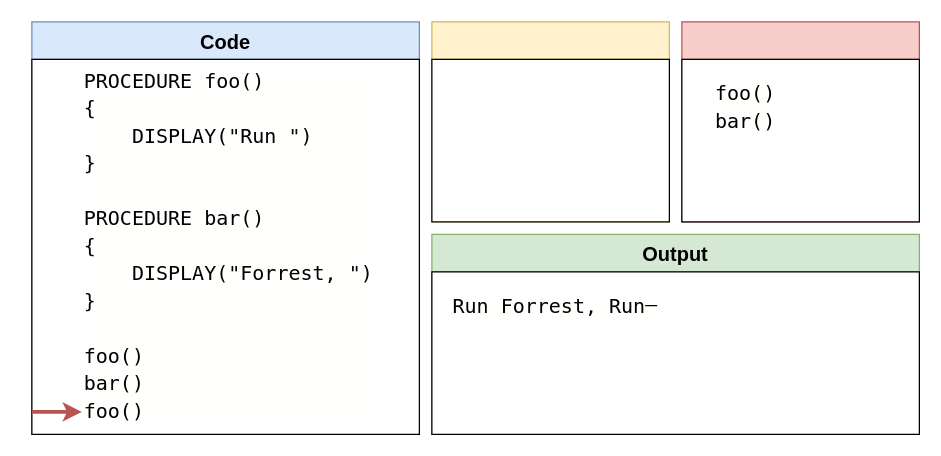
This 941x456 diagram has some shape labels left out. Here are the shapes that lost their labels. From the top down, the box of each, then its label:
(431, 21, 669, 222): Variables
(681, 21, 919, 222): Procedures
